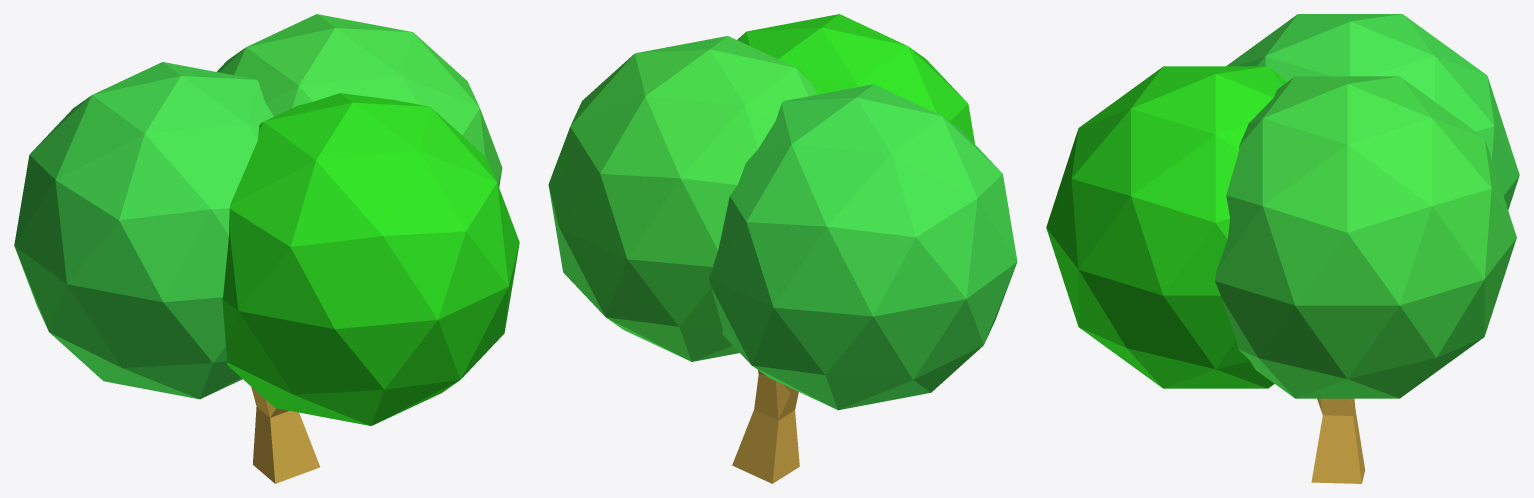
The model's file is KUST.glb.
3 views of the same model, side by side, from view 1: azimuth 30°, elevation 25°; view 2: azimuth 150°, elevation 25°; view 3: azimuth 270°, elevation 25° (orthographic). The views are drawn at different scales.
Visible parts, largest first — view 1: Icosphere.002; view 2: Icosphere.002; view 3: Icosphere.002.
Boxes of the visible parts, x1,y1,x2,y2 form: Icosphere.002: (14,14,519,483); Icosphere.002: (548,14,1017,483); Icosphere.002: (1046,14,1519,483).
Size of the model in its own units: 2.93 by 2.75 by 2.79.
